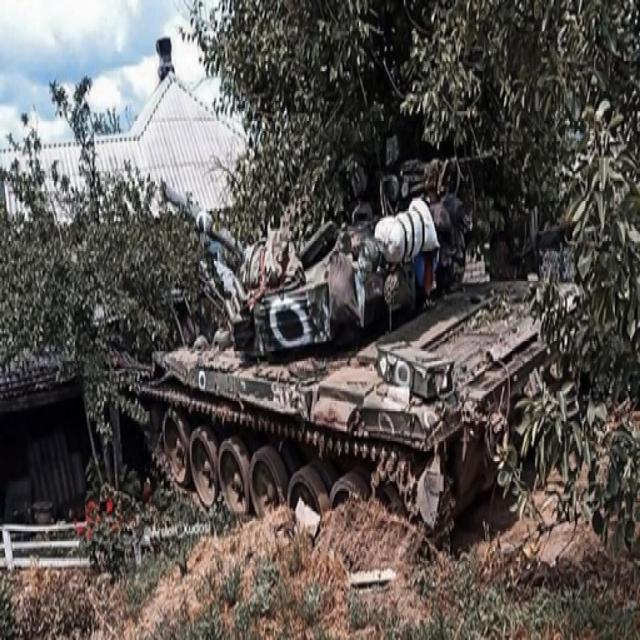TANK: (132, 166, 590, 544)
